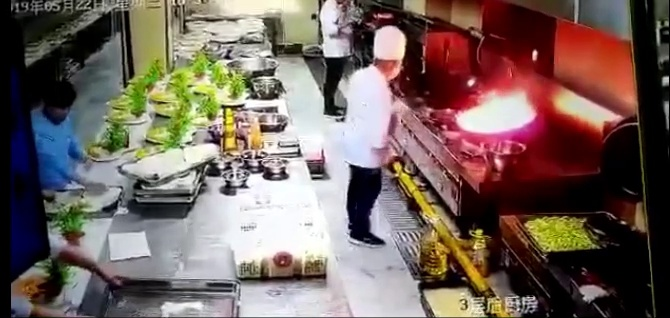fire: (464, 89, 534, 132)
